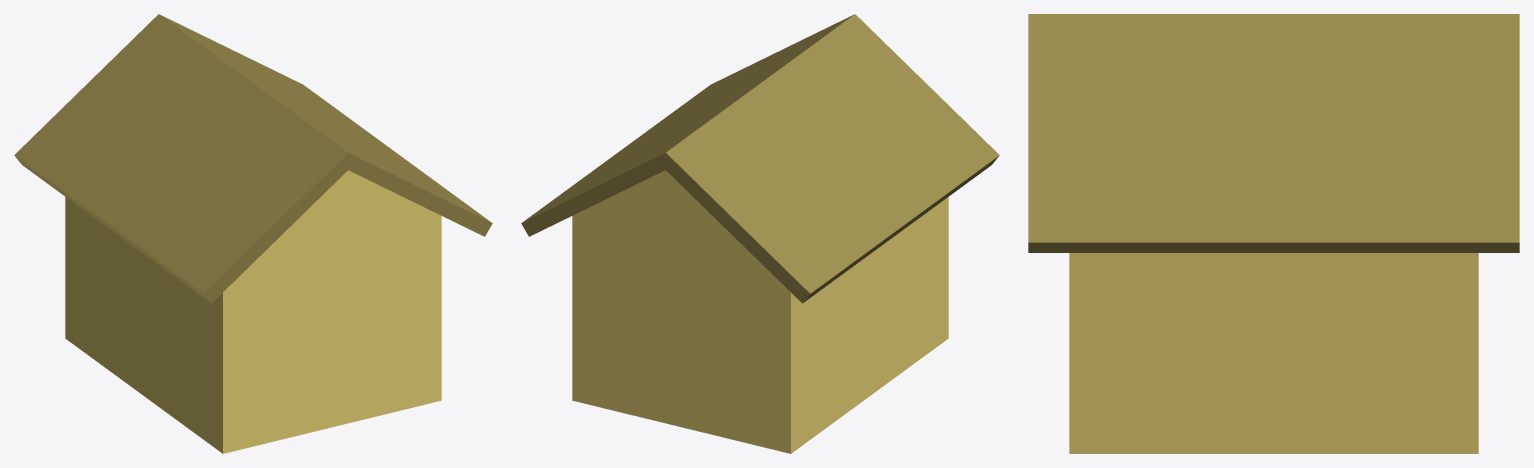
Rendered from result.glb.
3 views of the same model, side by side, from view 1: azimuth 30°, elevation 25°; view 2: azimuth 150°, elevation 25°; view 3: azimuth 270°, elevation 25° (orthographic). The views are drawn at different scales.
Parts seen in each view (by area): view 1: 3a289b35-b684-4c19-af87-ebb82eccb995__undefined, eff5e9c7-8a3a-43ef-8395-fa5f01e3150e__undefined (×2); view 2: 3a289b35-b684-4c19-af87-ebb82eccb995__undefined, eff5e9c7-8a3a-43ef-8395-fa5f01e3150e__undefined (×2); view 3: eff5e9c7-8a3a-43ef-8395-fa5f01e3150e__undefined, 3a289b35-b684-4c19-af87-ebb82eccb995__undefined.
Boxes of the visible parts, box(x1,y1,x2,y2) form: 3a289b35-b684-4c19-af87-ebb82eccb995__undefined: box(65, 170, 441, 453); eff5e9c7-8a3a-43ef-8395-fa5f01e3150e__undefined (×2): box(14, 14, 492, 303); 3a289b35-b684-4c19-af87-ebb82eccb995__undefined: box(572, 170, 948, 453); eff5e9c7-8a3a-43ef-8395-fa5f01e3150e__undefined (×2): box(521, 14, 999, 303); eff5e9c7-8a3a-43ef-8395-fa5f01e3150e__undefined: box(1028, 14, 1519, 252); 3a289b35-b684-4c19-af87-ebb82eccb995__undefined: box(1069, 253, 1478, 453).
Bounding box in the file's own units: 529 × 500 × 600.
